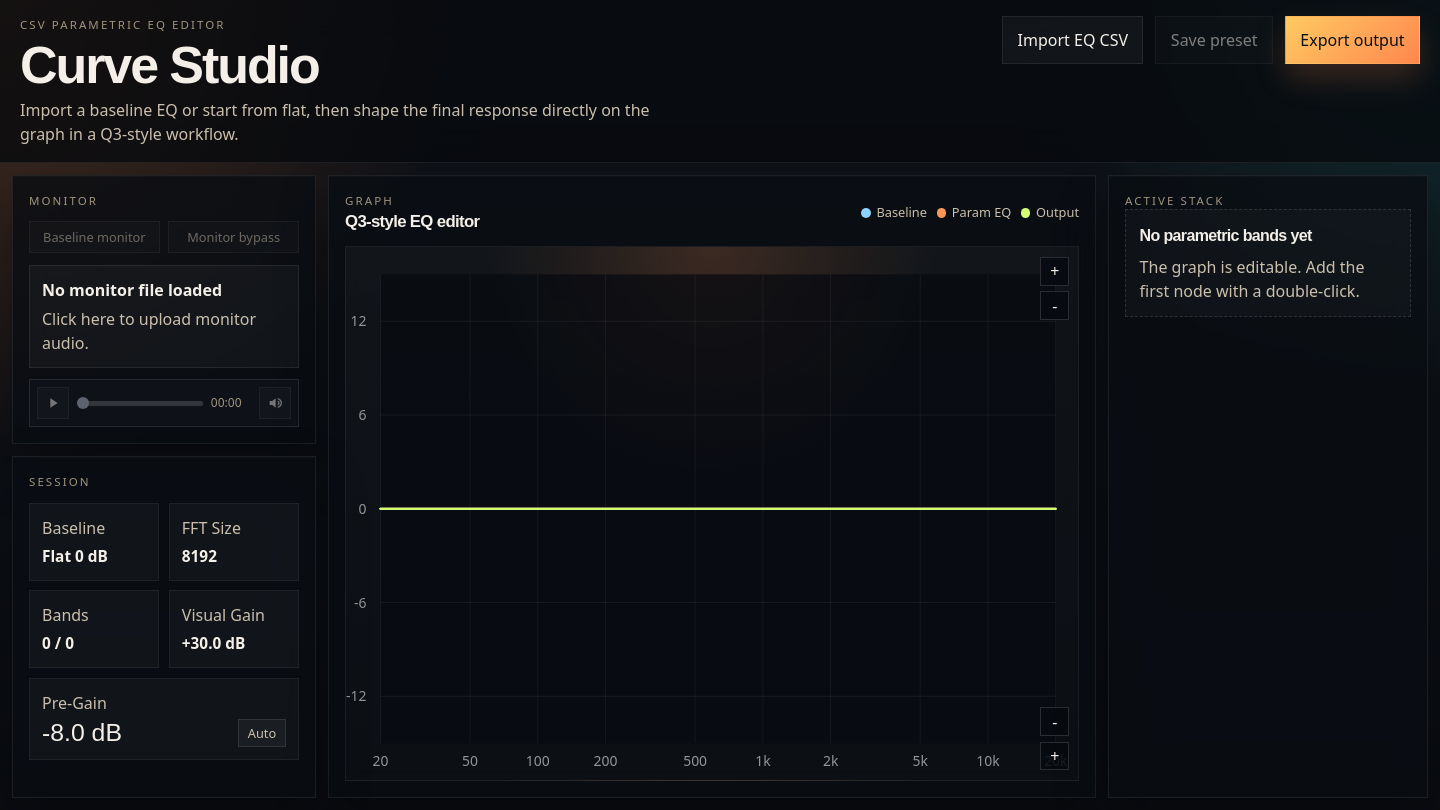
Test: App › starts at the default FFT size and allows inline editing
The width and height of the screenshot is (1440, 810).
Double-click the button named "Edit FFT size": (199, 557) 182,548 -> 217,566
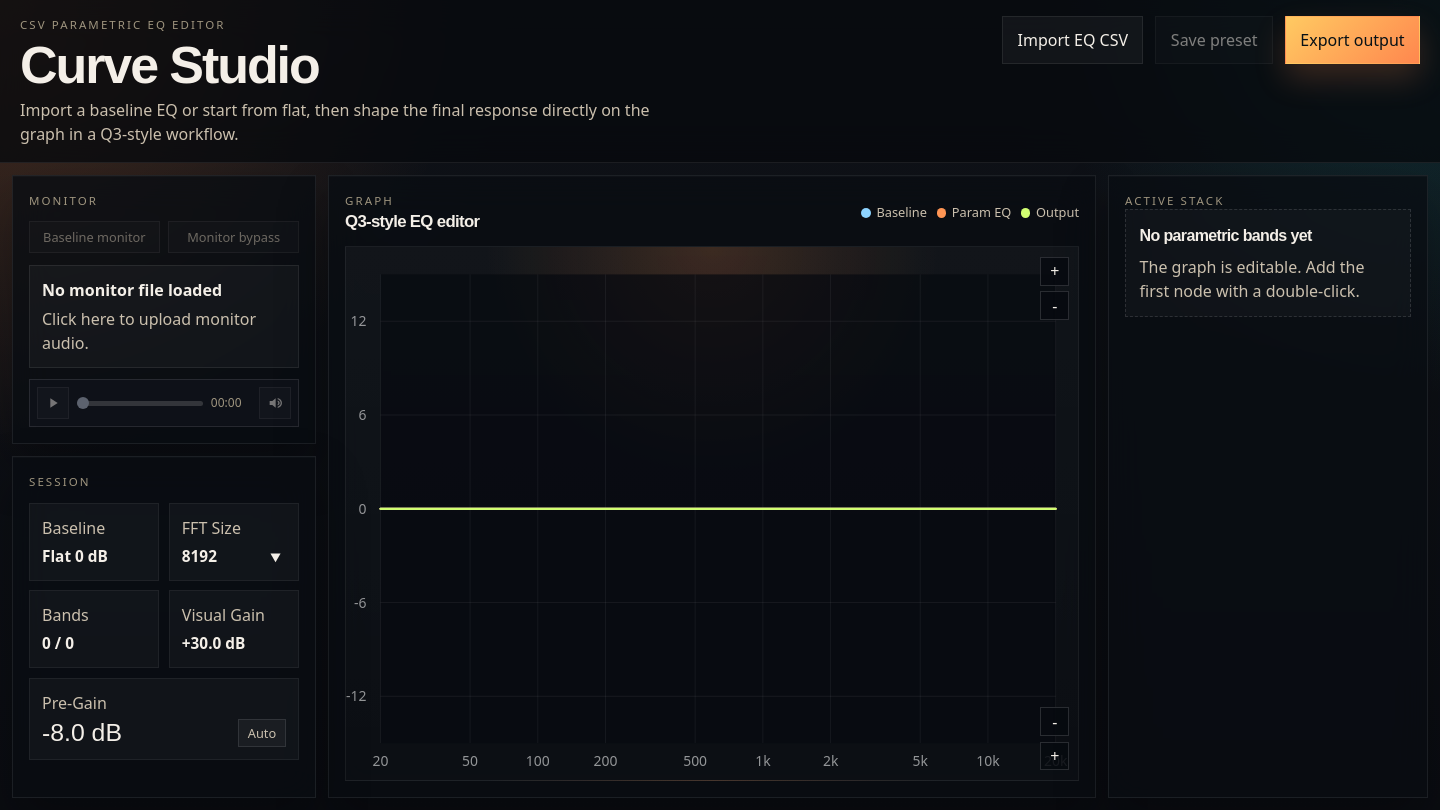
Replace the text in the number field named "FFT size" with "256": (234, 557) 182,548 -> 286,566
Then press Enter
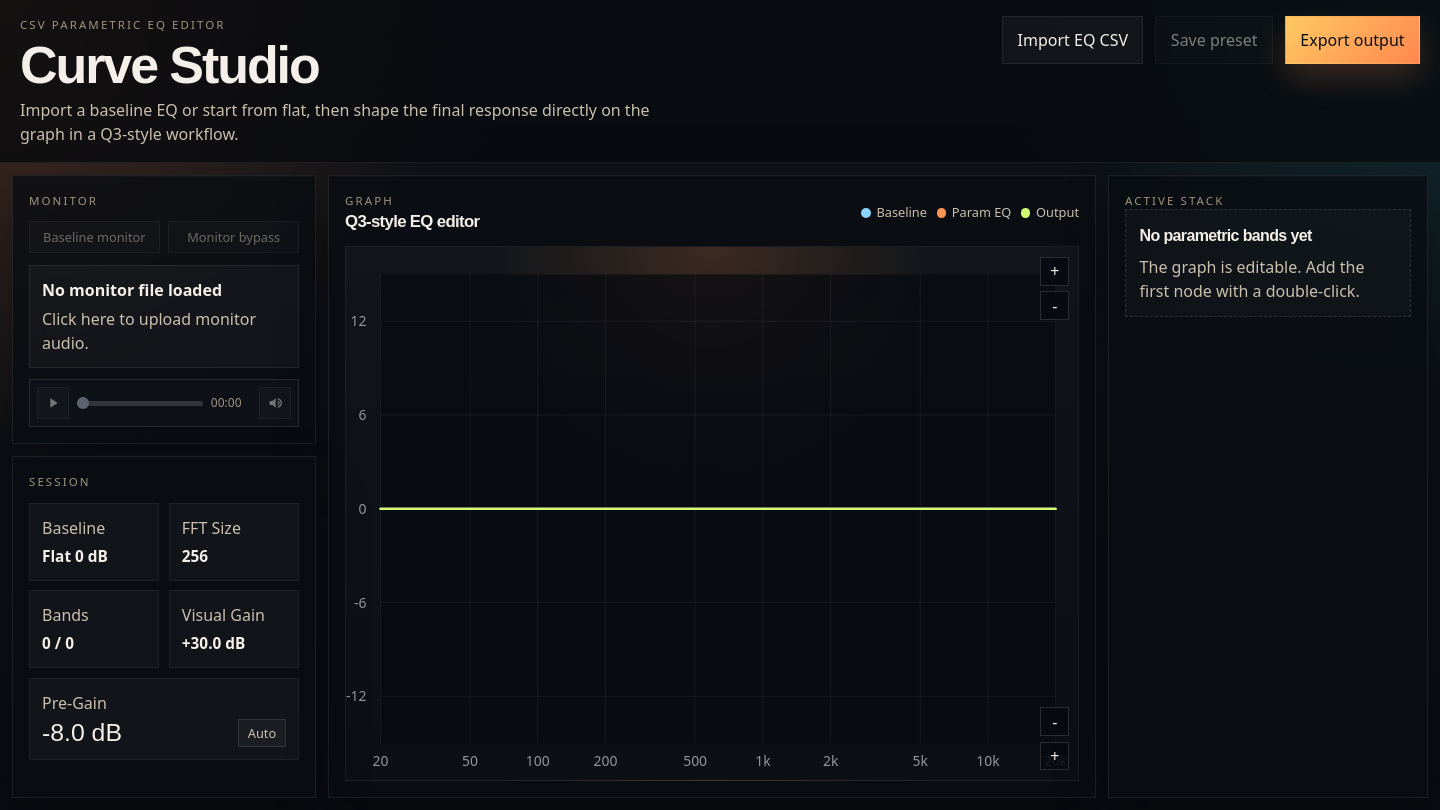
Expected: the button named "Edit FFT size" reads "256", 182,548 -> 208,566
